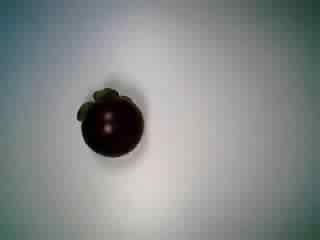mangosteen: (69, 82, 144, 165)
